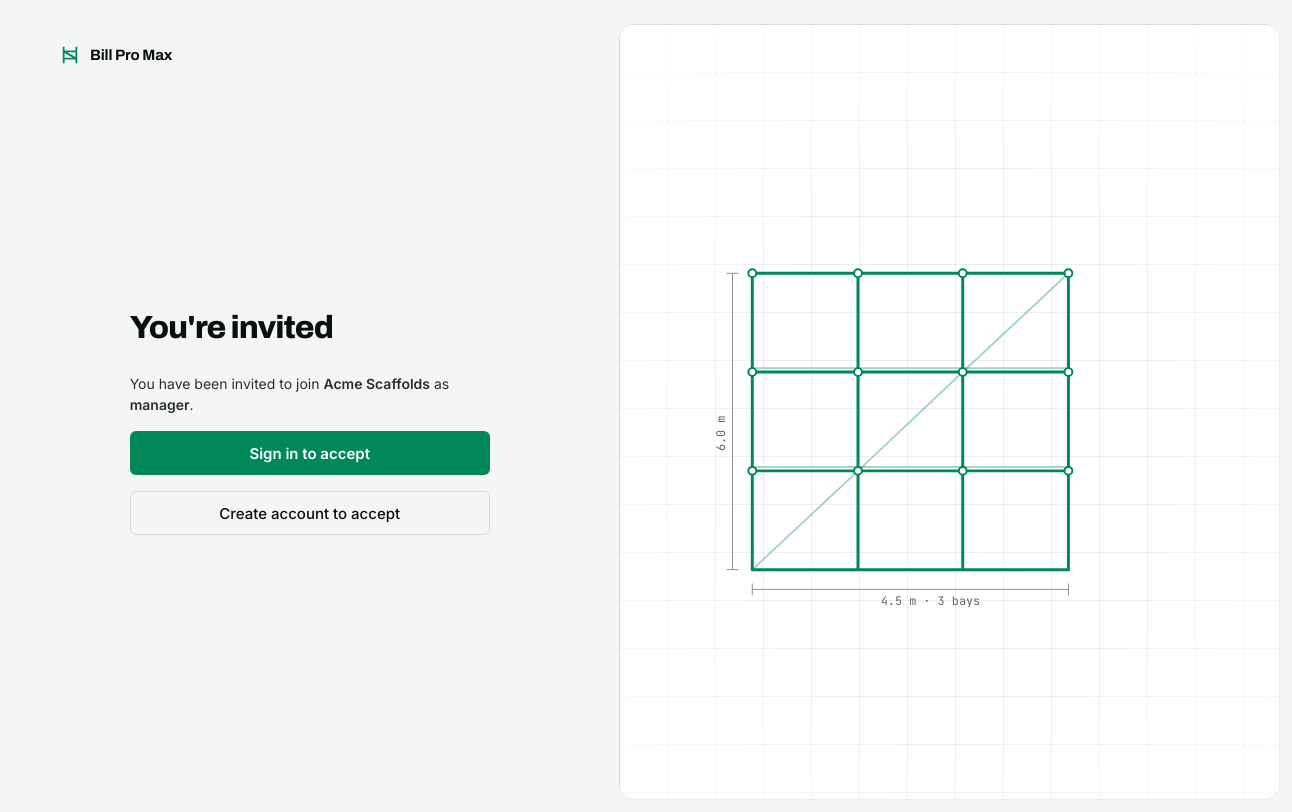
Test: InvitationAcceptPage › prompts signed-out visitors to sign in or register with the token
This screenshot has width=1292, height=812.
Expected: the text "Acme Scaffolds" is shown, [323,375,430,392]
Expected: the text "manager" is shown, [130,396,190,413]
Click the button "Create account to accept". click: (310, 513)
box: [130,491,490,535]
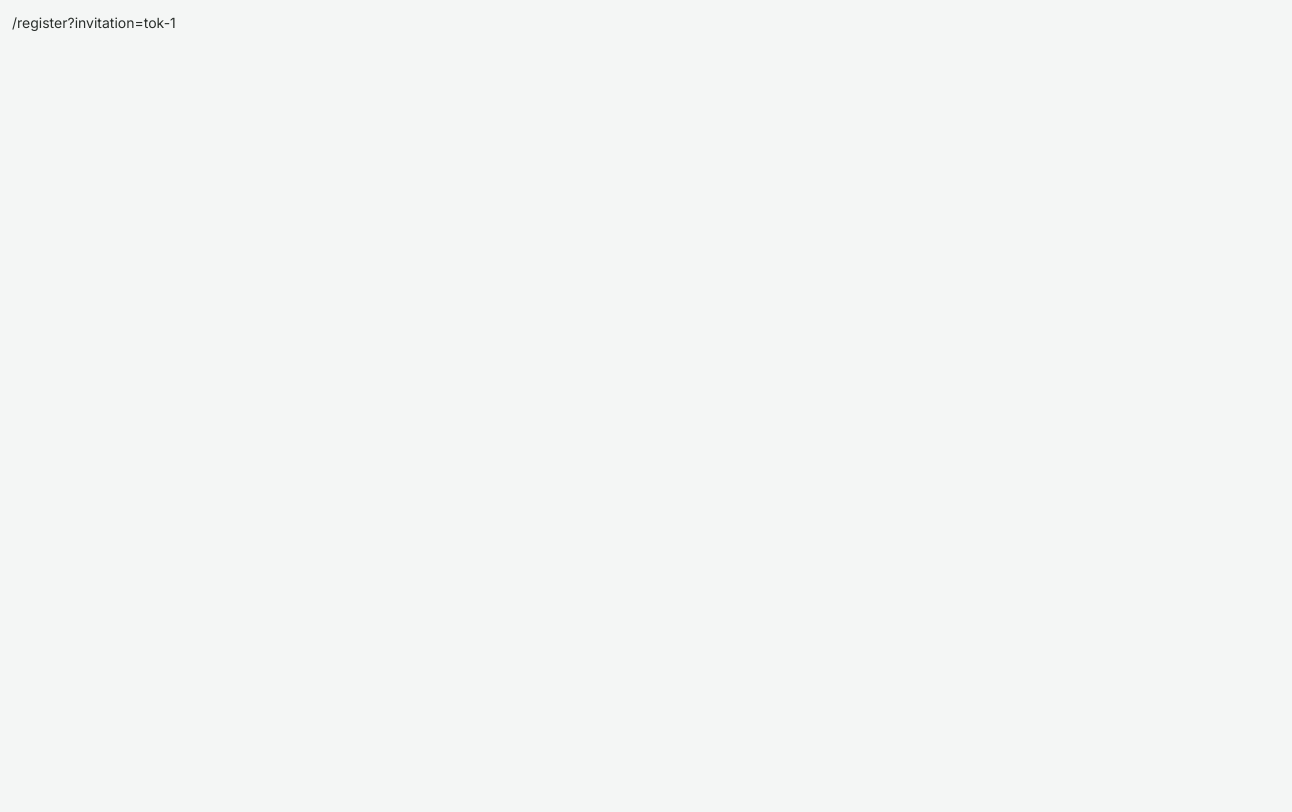
Expected: the text with test id "where" reads "/register?invitation=tok-1", [12,14,176,31]
